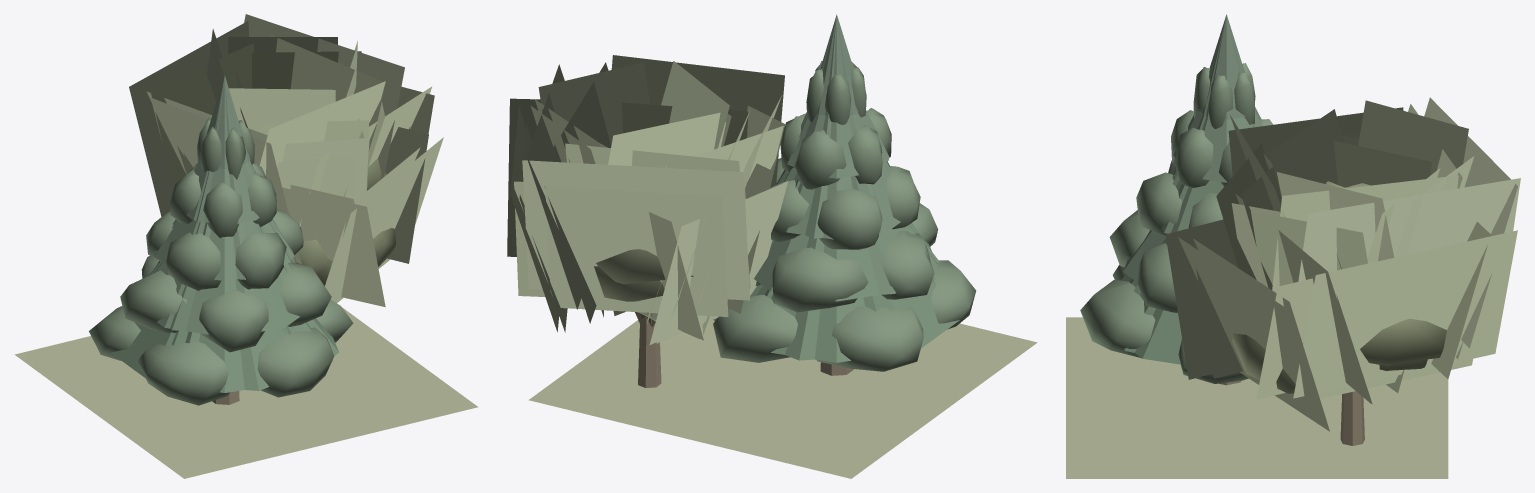
The picture shows the model from 3 angles, left to right: view 1: azimuth 30°, elevation 25°; view 2: azimuth 150°, elevation 25°; view 3: azimuth 270°, elevation 25°; orthographic projection. The views are drawn at different scales.
Visible parts, largest first — view 1: Near, Mid, Far; view 2: Near, Mid; view 3: Near, Mid.
Part boxes in pixels (x1=…): Near: x1=14, y1=29, x2=478, y2=478; Mid: x1=129, y1=14, x2=443, y2=390; Far: x1=185, y1=158, x2=386, y2=343; Near: x1=514, y1=14, x2=1037, y2=478; Mid: x1=507, y1=16, x2=938, y2=360; Near: x1=1066, y1=14, x2=1490, y2=478; Mid: x1=1121, y1=15, x2=1520, y2=431.
Bounding box in the file's own units: 1.24 × 1.05 × 1.19.
